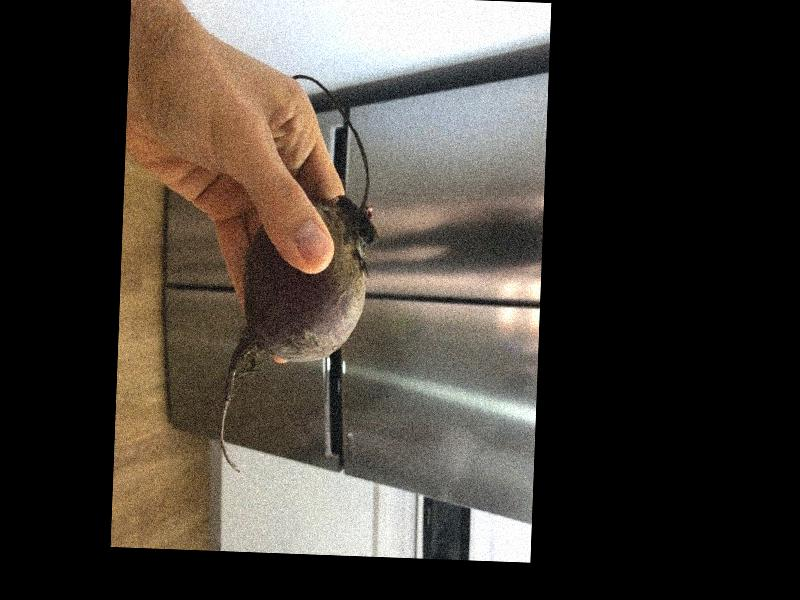Beet: (217, 72, 381, 480)
